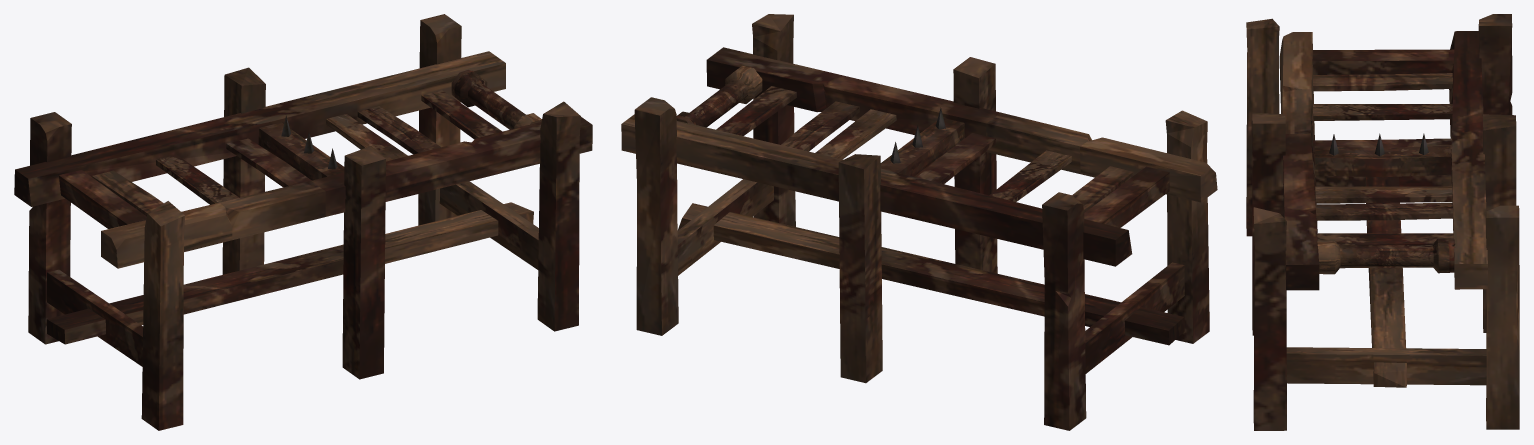
The model's file is blsd_jiazi_01.FBX.
3 renders of one model, left to right at view 1: azimuth 30°, elevation 25°; view 2: azimuth 150°, elevation 25°; view 3: azimuth 270°, elevation 25°, orthographic. The views are drawn at different scales.
Visible parts, largest first — view 1: blsd_jiazi_01; view 2: blsd_jiazi_01; view 3: blsd_jiazi_01.
Part boxes in pixels (box(x1,y1,x2,y2)): blsd_jiazi_01: box(14, 14, 592, 430); blsd_jiazi_01: box(621, 14, 1217, 430); blsd_jiazi_01: box(1246, 14, 1519, 430).
Size of the model in its own units: 262 by 127 by 110.
